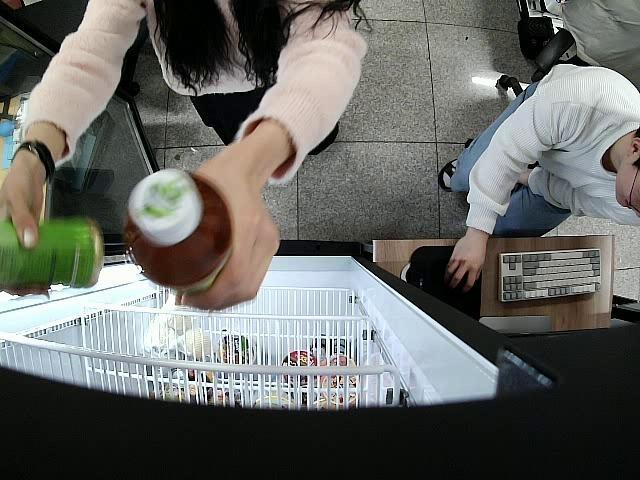19_17cha: (124, 166, 232, 295), (0, 217, 104, 293)
